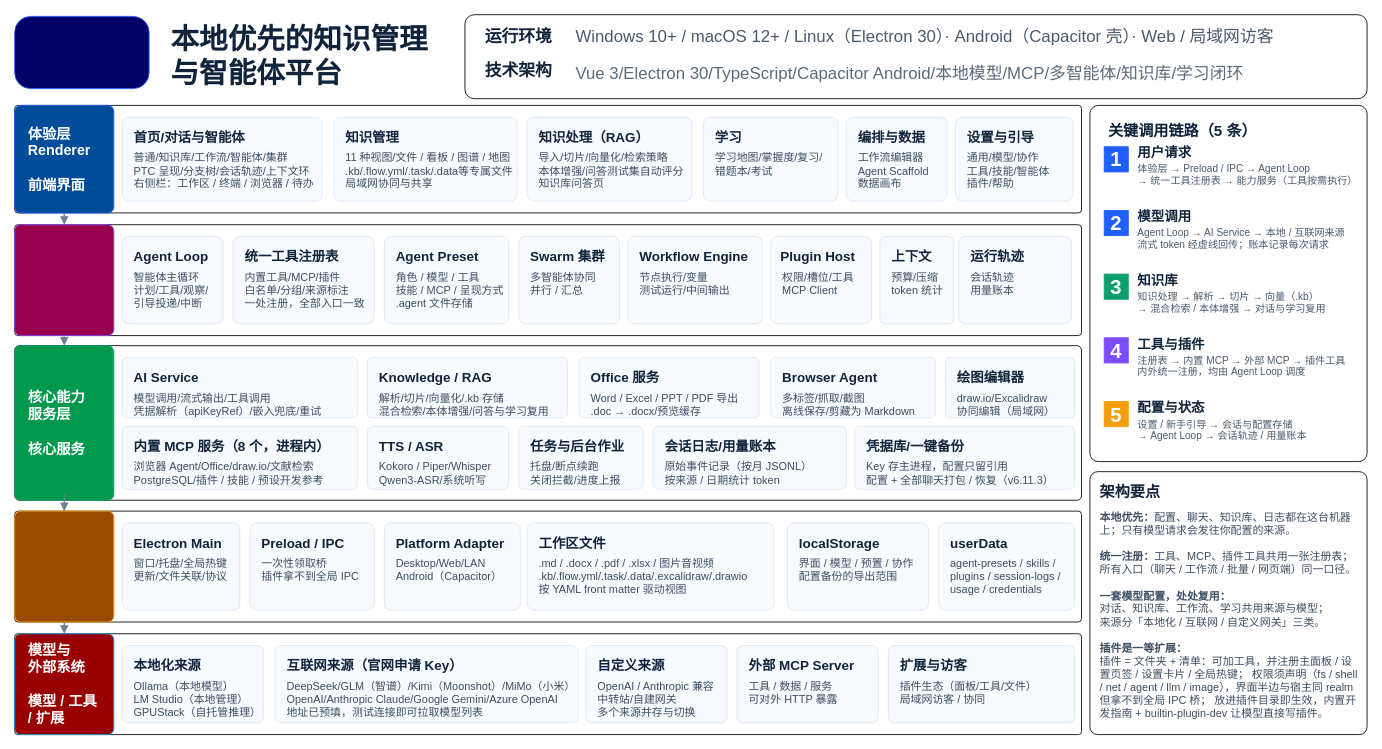
The diagram is 1382 pixels wide and 749 high, and some of its shapes have lost their labels. Each missing label, with the centre of its shape:
"AI-KM" belongs at point (81, 52).
"平台适配 与本地数据 本机运行" belongs at point (64, 566).
"智能体与 编排层 调度与工具" belongs at point (64, 280).
